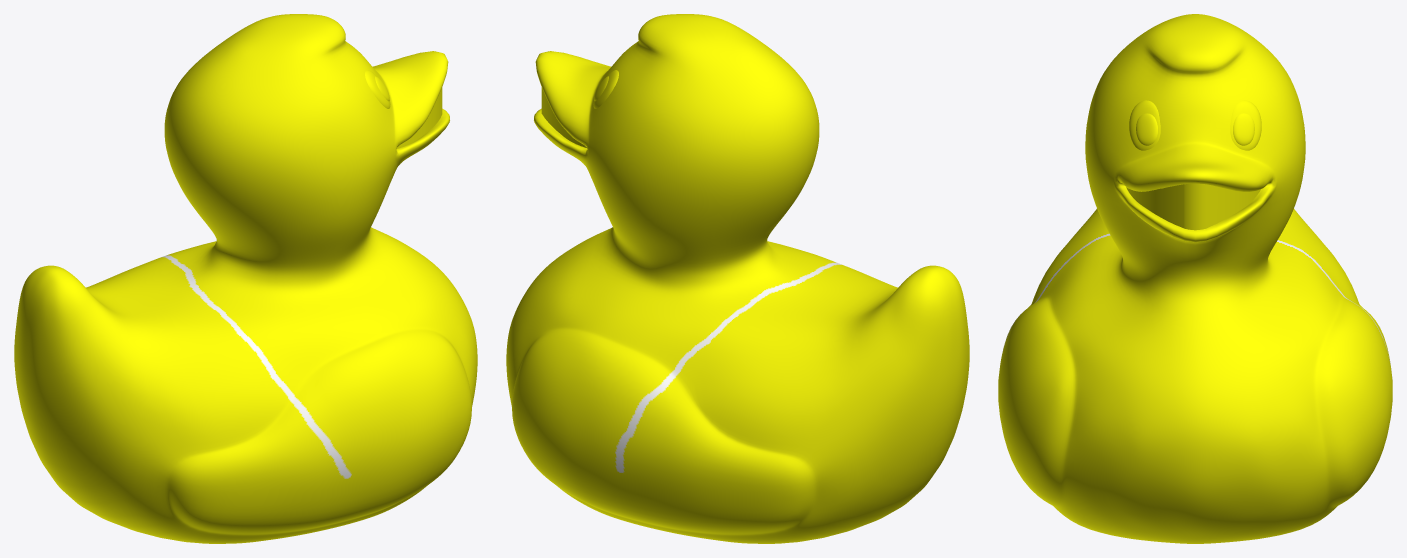
Rendered from DuckComplete.obj.
3 views of the same model, side by side, from view 1: azimuth 30°, elevation 25°; view 2: azimuth 150°, elevation 25°; view 3: azimuth 270°, elevation 25° (orthographic). The views are drawn at different scales.
Parts seen in each view (by area): view 1: DuckComplete; view 2: DuckComplete; view 3: DuckComplete.
Part boxes in pixels (left/top/right/bottom): DuckComplete: left=14, top=14, right=477, bottom=543; DuckComplete: left=506, top=14, right=969, bottom=543; DuckComplete: left=998, top=14, right=1392, bottom=543.
Bounding box in the file's own units: 0.1352 × 0.1394 × 0.1033.
5 materials, 5 textured.
